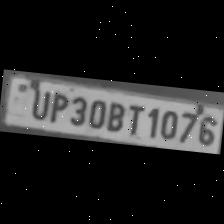0: (154, 106, 178, 142), (85, 95, 107, 130)
1: (141, 104, 159, 140)
3: (66, 92, 88, 128)
6: (194, 112, 217, 148)
7: (176, 108, 198, 146)
B: (103, 98, 126, 134)
P: (46, 88, 68, 124)
T: (124, 100, 150, 139)
U: (27, 86, 50, 120)
